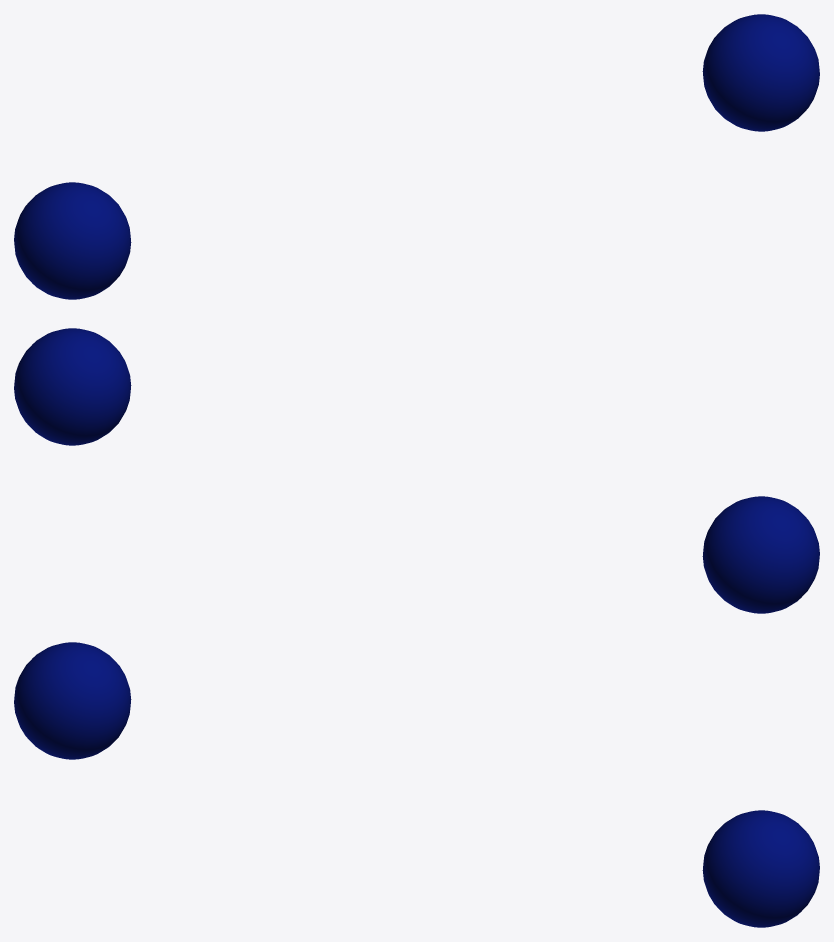
3 renders of one model, top to bottom at view 1: azimuth 30°, elevation 25°; view 2: azimuth 150°, elevation 25°; view 3: azimuth 330°, elevation 25°, orthographic.
Parts seen in each view (by area): view 1: Sphere002; view 2: Sphere002; view 3: Sphere002.
Boxes of the visible parts, x1,y1,x2,y2 form: Sphere002: (14,14,819,299); Sphere002: (14,328,819,613); Sphere002: (14,642,819,927).
Bounding box in the file's own units: 63.86 × 8.22 × 8.22.
